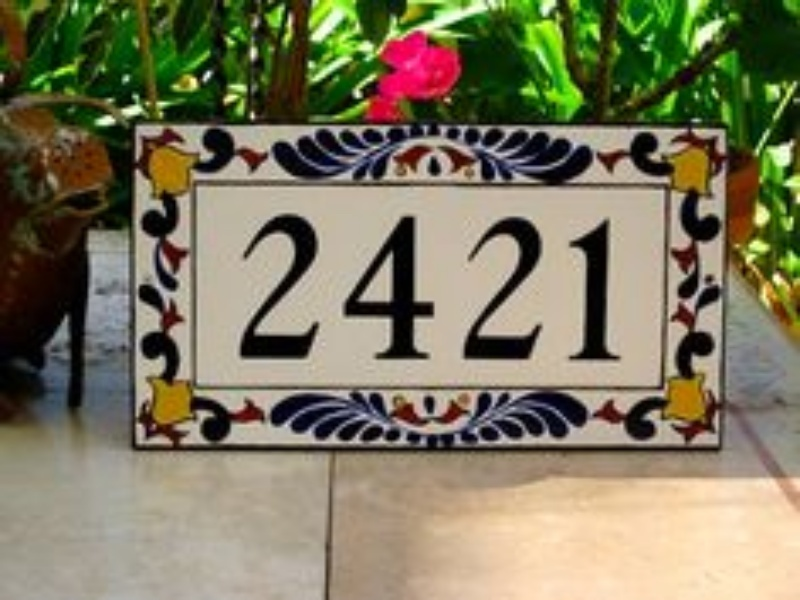text: (241, 207, 256, 360), (257, 207, 272, 360), (273, 207, 288, 360), (289, 207, 304, 360), (305, 207, 320, 360), (321, 207, 336, 360), (337, 207, 352, 360), (353, 207, 368, 360), (369, 207, 384, 360), (385, 207, 400, 360), (401, 207, 416, 360), (417, 207, 432, 360), (433, 207, 448, 360), (449, 207, 464, 360), (465, 207, 480, 360), (481, 207, 496, 360), (497, 207, 512, 360), (513, 207, 528, 360), (529, 207, 544, 360), (545, 207, 560, 360), (561, 207, 576, 360), (577, 207, 592, 360), (593, 207, 608, 360), (609, 207, 624, 360), (234, 207, 240, 360)
